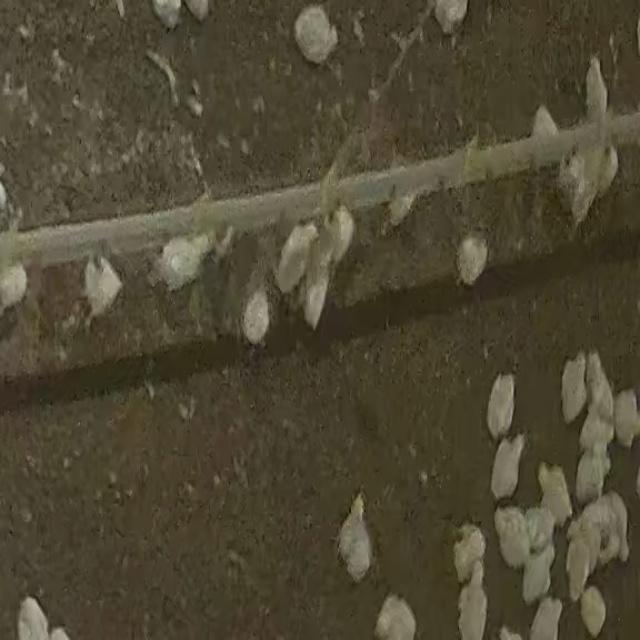chicken: (579, 492, 631, 567), (276, 220, 317, 294), (292, 3, 339, 63), (337, 504, 373, 582), (321, 180, 356, 257), (304, 232, 332, 326), (155, 236, 204, 288), (492, 505, 531, 569), (490, 435, 526, 503), (456, 567, 489, 640), (450, 522, 486, 587), (481, 372, 519, 433), (87, 257, 125, 318), (537, 463, 572, 528), (572, 450, 608, 508), (560, 353, 588, 426), (566, 528, 594, 601), (520, 542, 554, 602), (374, 593, 417, 640), (455, 232, 491, 286), (584, 54, 609, 126), (241, 288, 271, 347), (612, 391, 640, 448), (0, 262, 30, 312), (579, 585, 607, 637), (529, 596, 563, 638)
